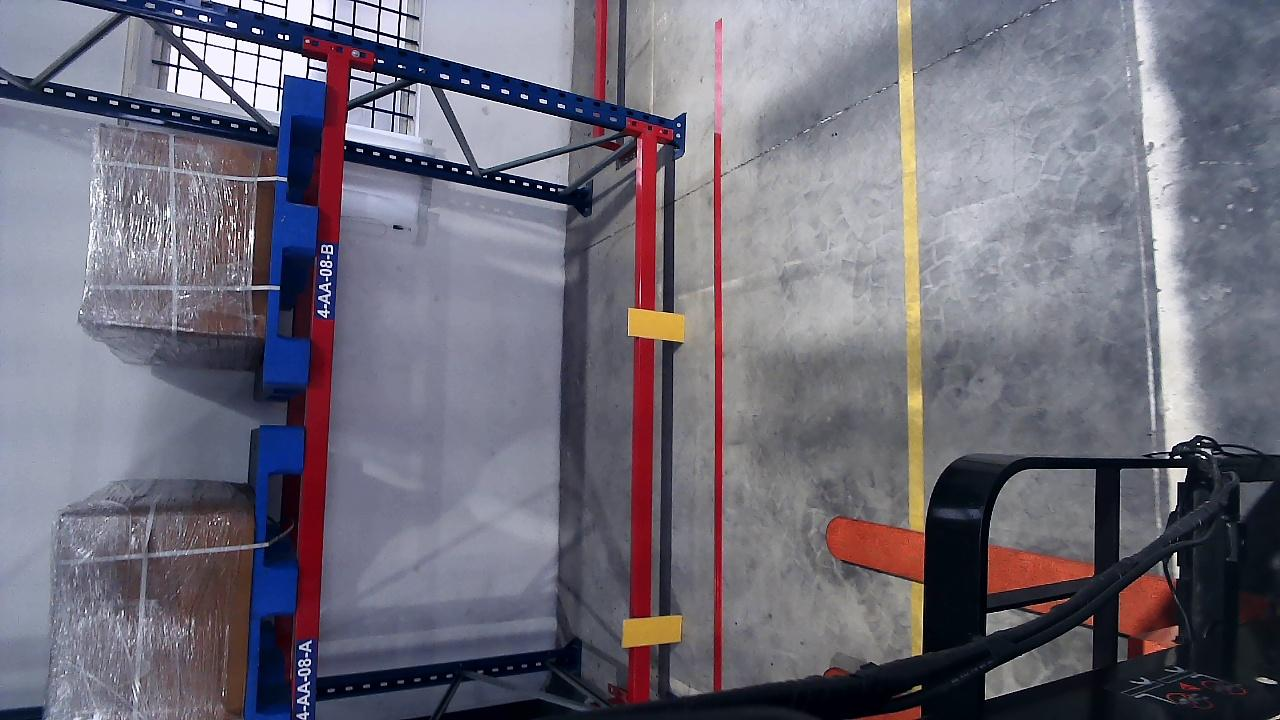h_rack: (291, 37, 352, 653), (628, 134, 656, 699)
orange_strip: (622, 615, 683, 646), (627, 308, 684, 341)
red_line: (711, 15, 722, 691)
small_pallet: (260, 73, 326, 381), (242, 428, 301, 720)
yellow_line: (896, 0, 928, 690)
